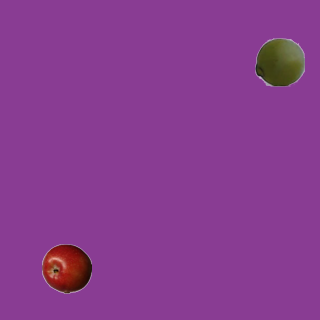Apple Braeburn: (41, 243, 91, 293)
Grape White 4: (254, 36, 304, 86)
